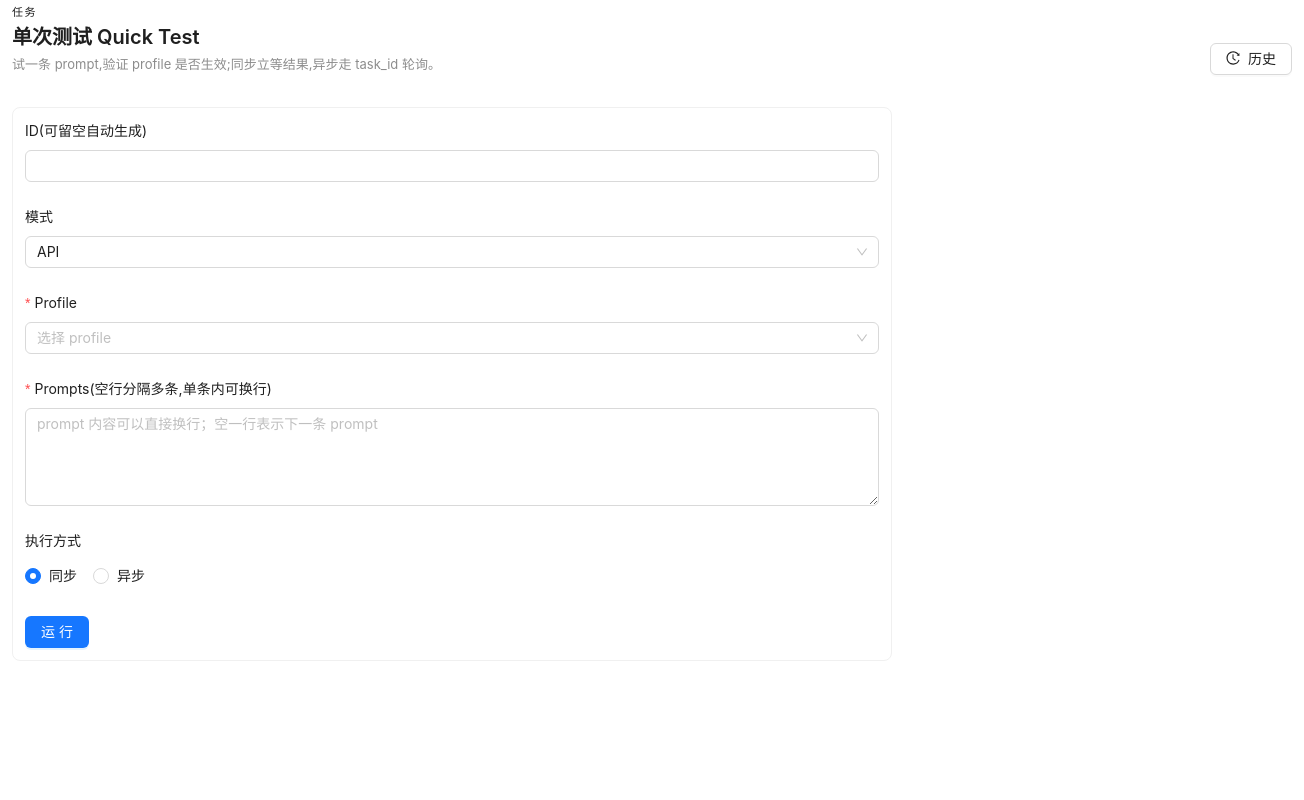
Test: TestsQuick › shows Android mode and filters profiles to android
Press the mouse on the dropdown labelled "模式" at (46, 217), box [25,206,67,228]
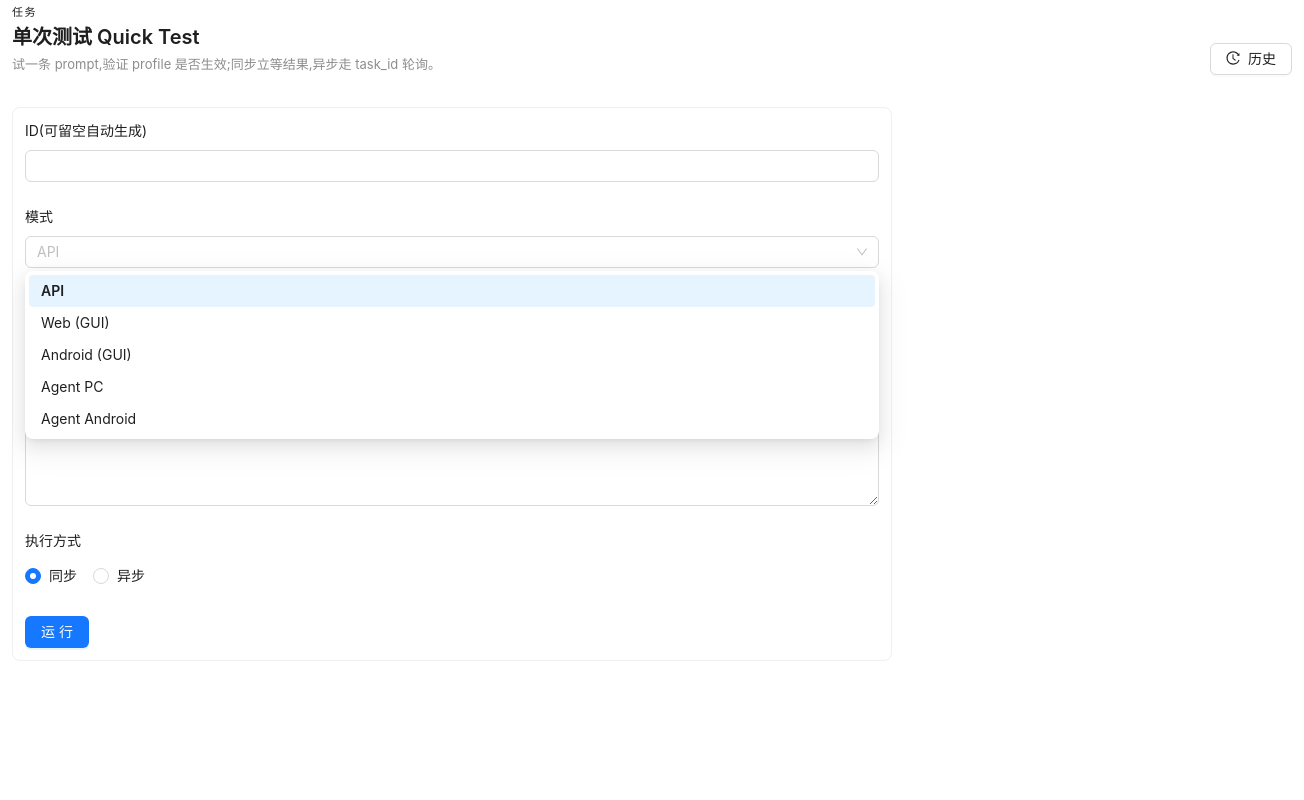
Expected: the text "Android (GUI)" is shown
Click the text "Android (GUI)" at (86, 354), box [41,346,132,363]
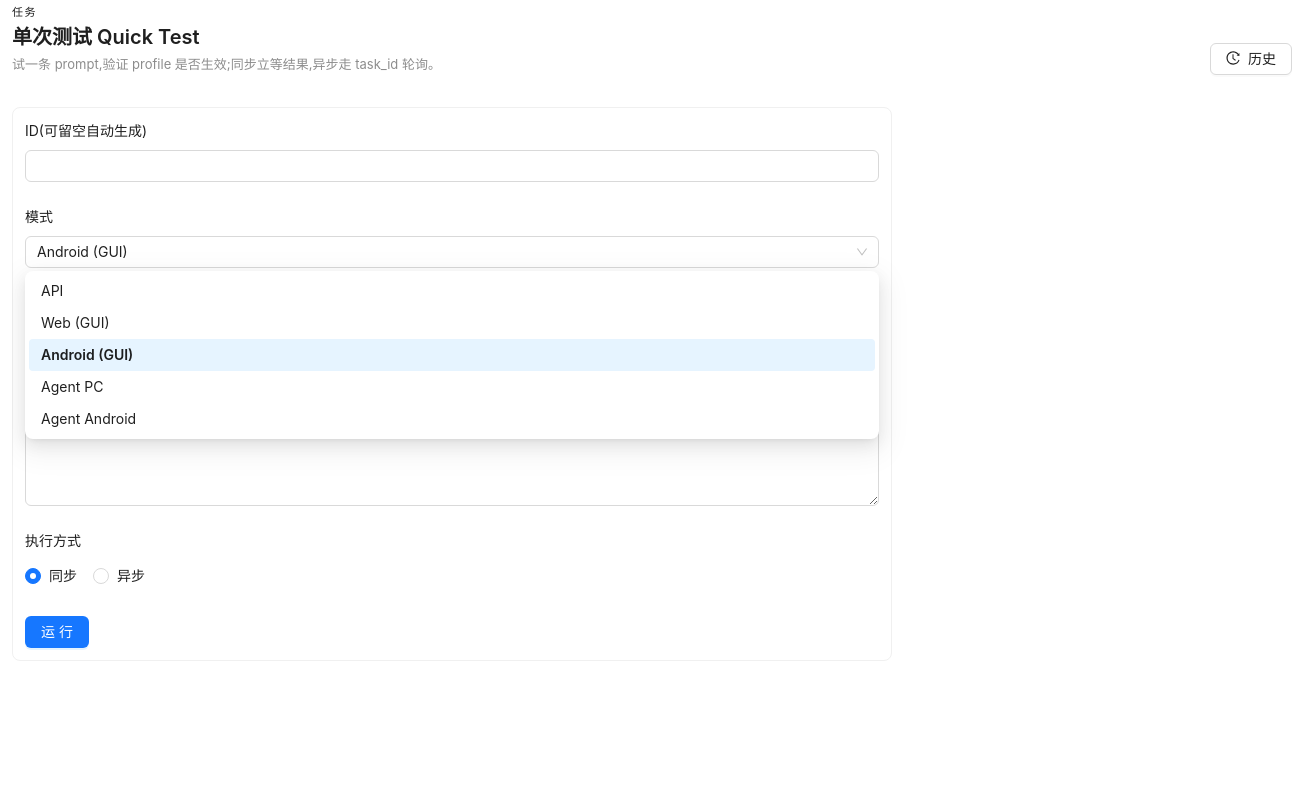
Press the mouse on the dropdown labelled "Profile" at (58, 303), box [25,292,91,314]
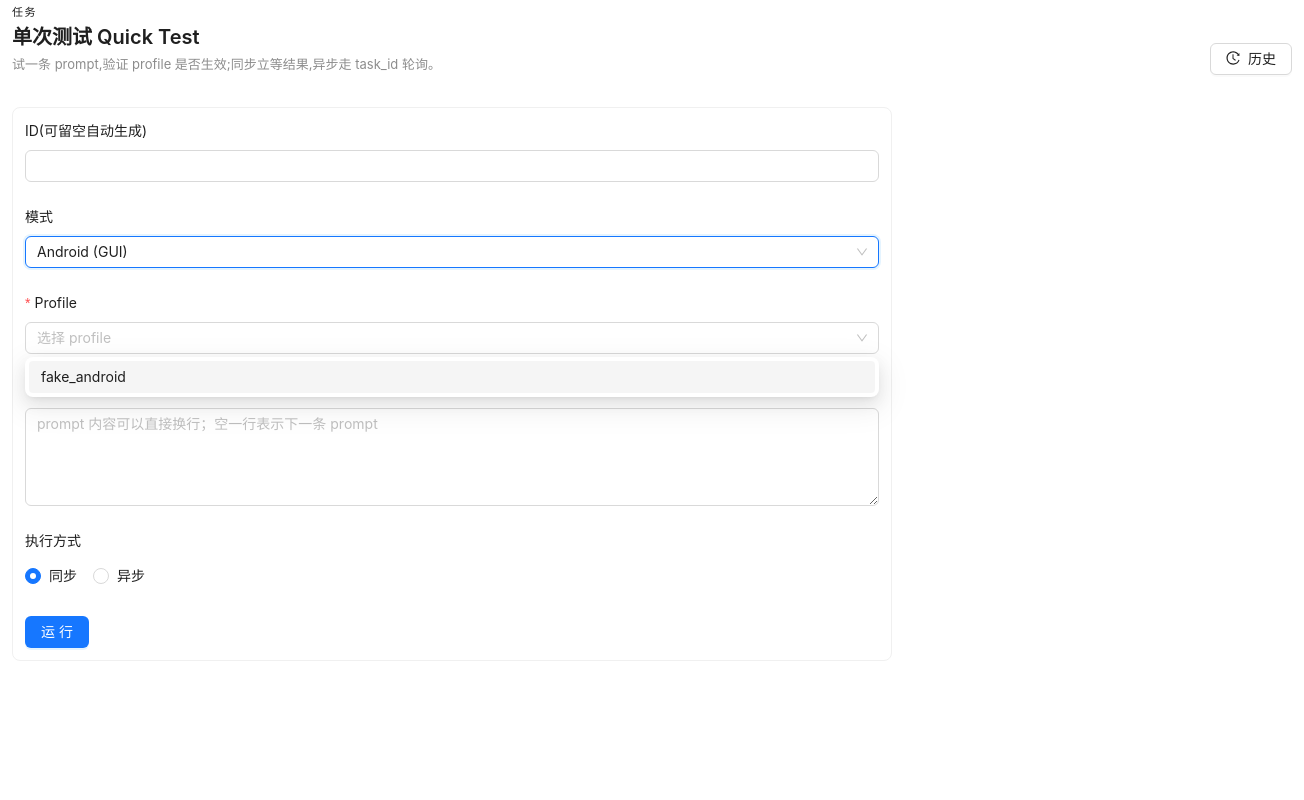
Expected: the text "fake_android" is shown, [41,368,126,385]
